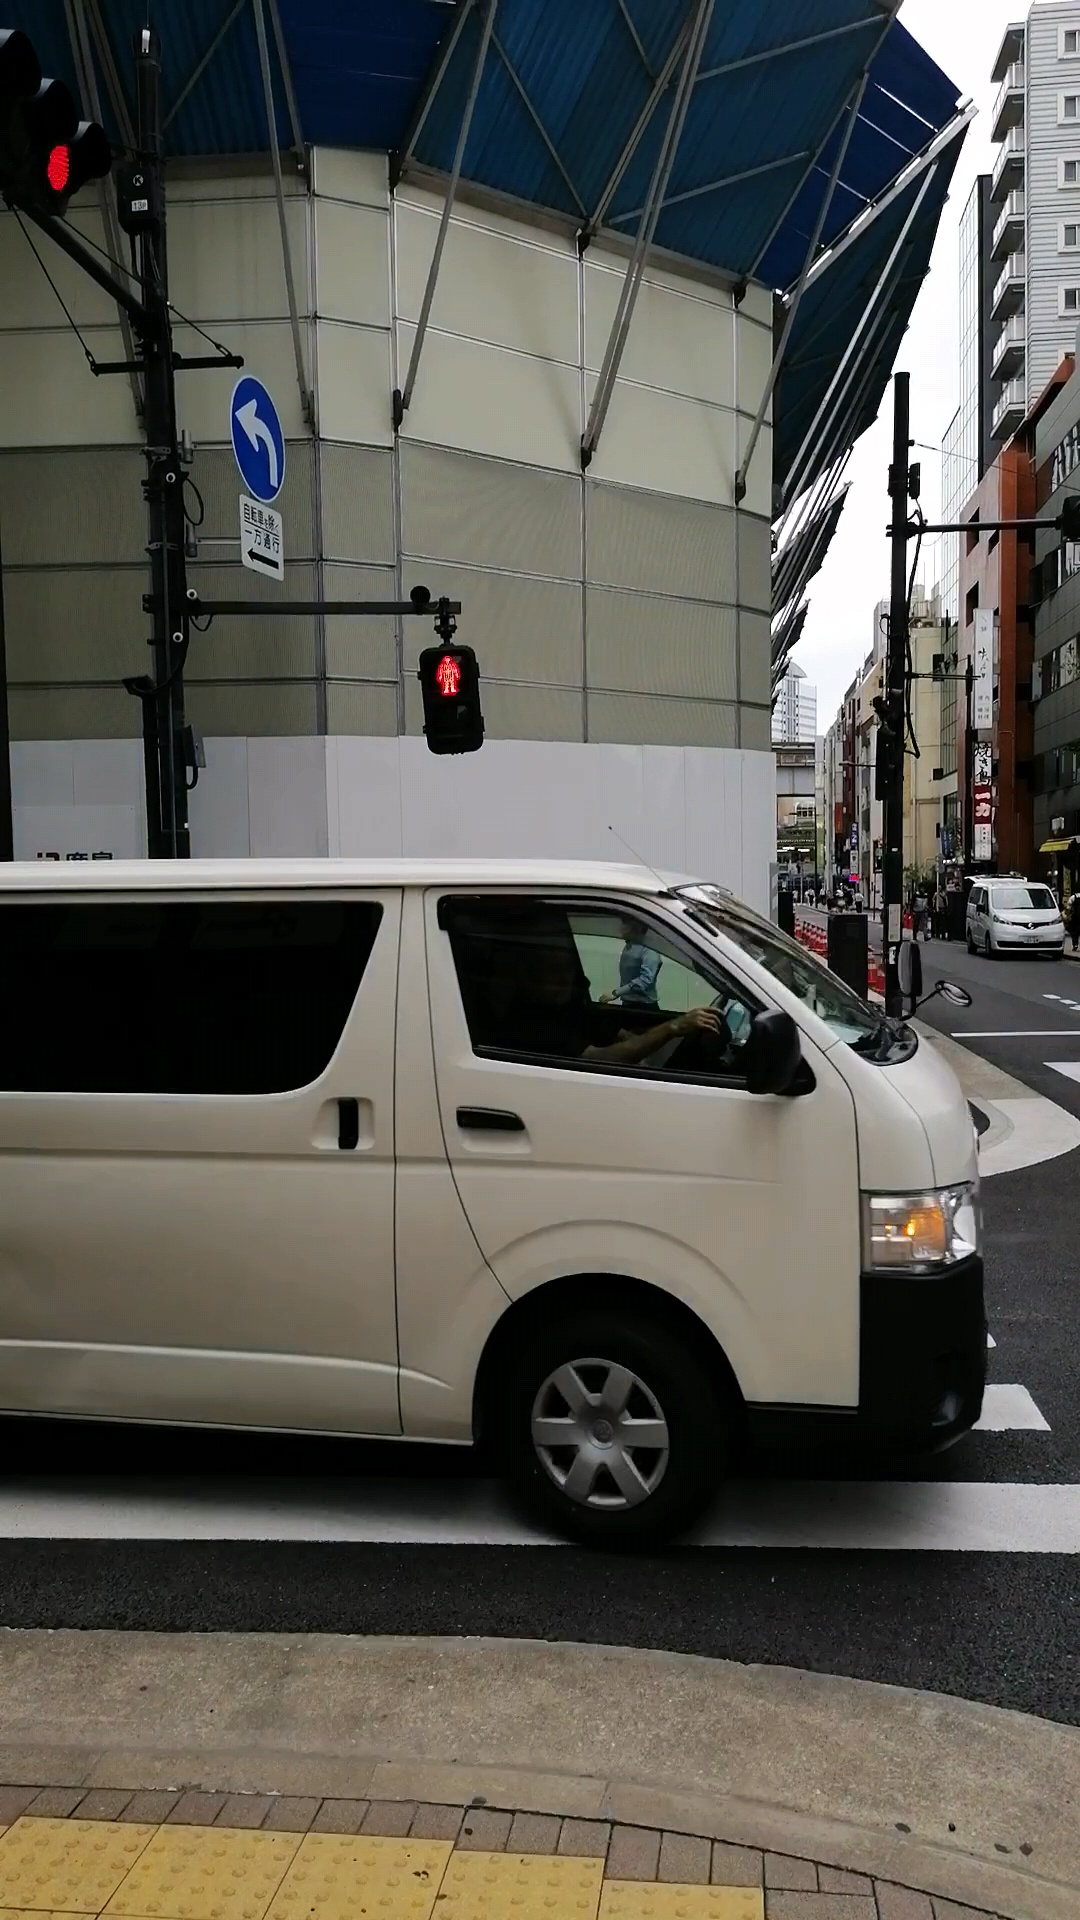red: (419, 646, 484, 752)
